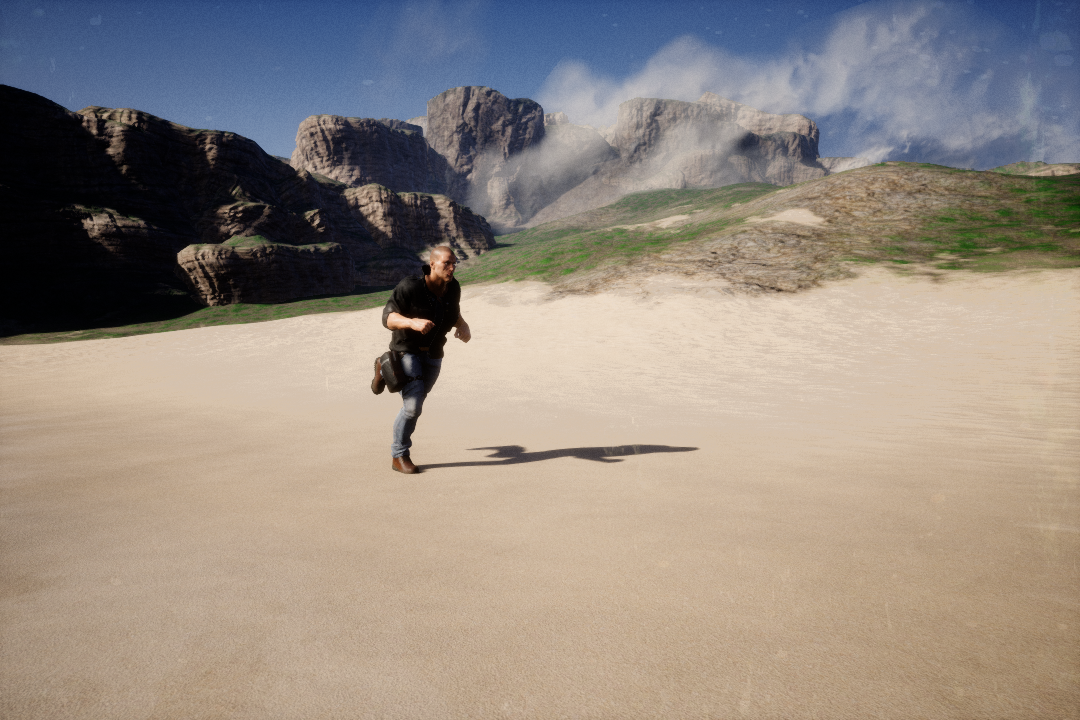person: (374, 237, 474, 479)
